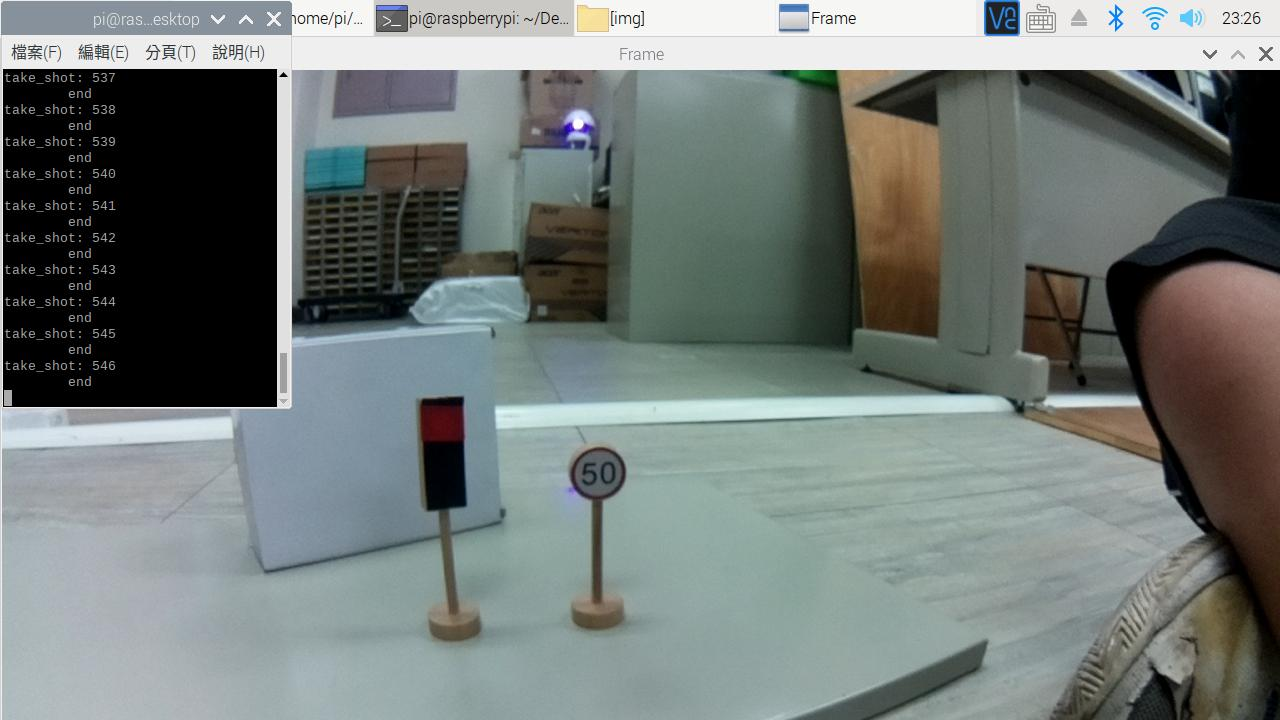Red: (409, 387, 487, 525)
Speed50: (555, 438, 634, 516)
